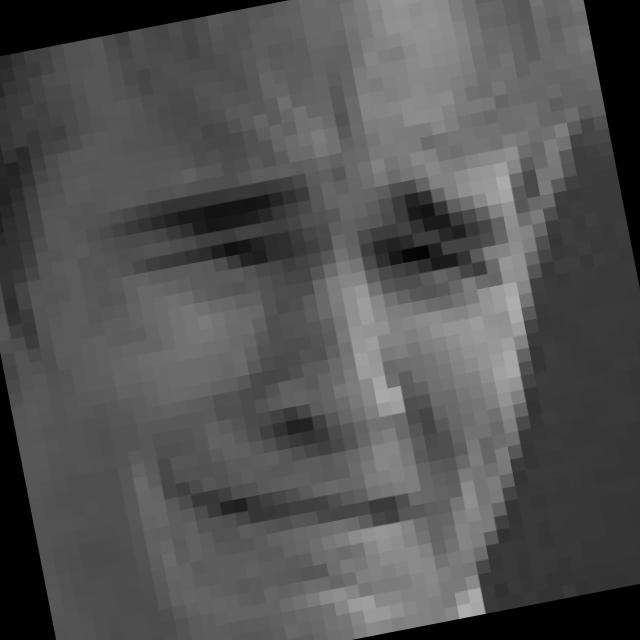sad: (78, 80, 573, 598)
